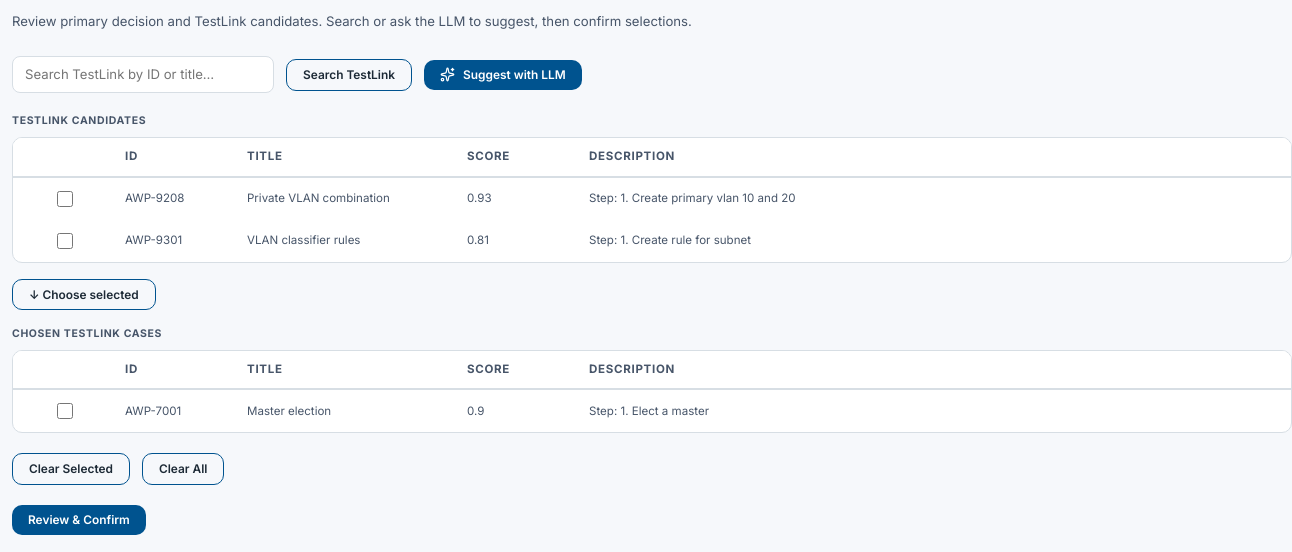
it: OgCandidatePicker › search › leaves out results that are already chosen
Type "Master" into the field with placeholder "Search TestLink by ID or title…". click: coordinates (143, 75)
box: x1=12 y1=56 x2=274 y2=93
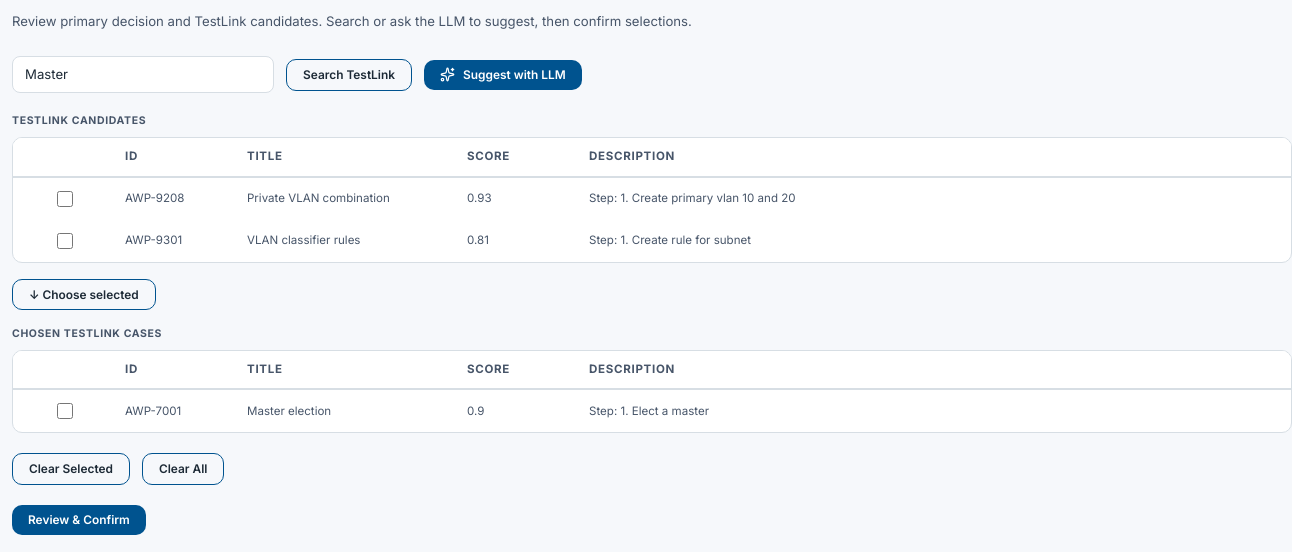
Click the button "Search TestLink". click: coordinates (349, 75)
box: x1=286 y1=59 x2=412 y2=91
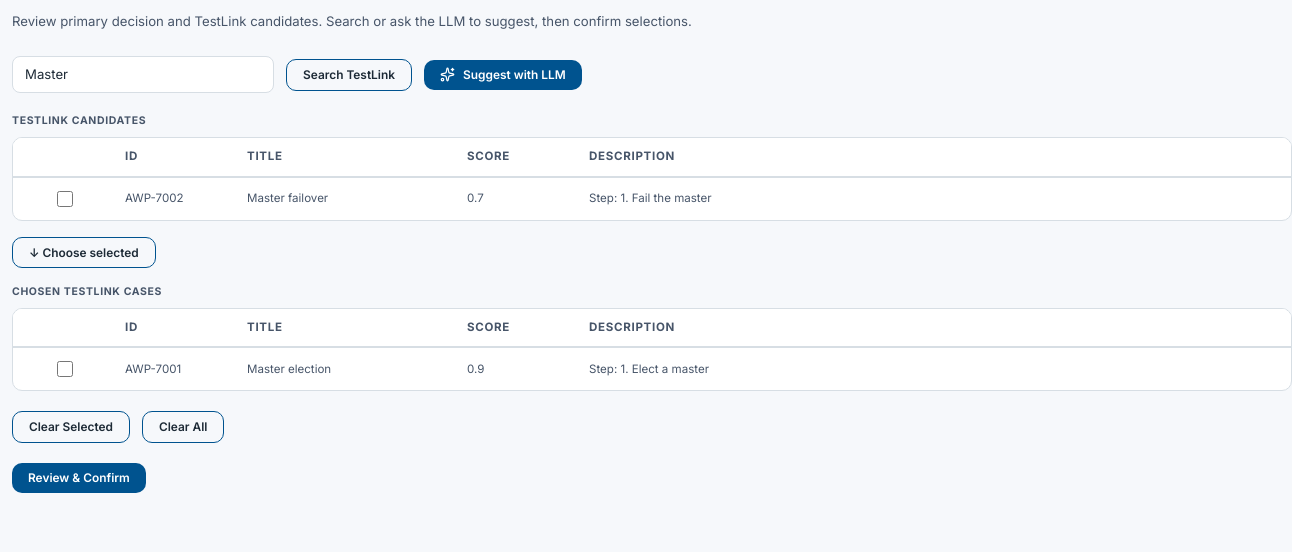
Expected: the text "AWP-7001" is shown, x1=125 y1=362 x2=181 y2=376
Result: the text "AWP-7002" is shown at x1=125 y1=191 x2=184 y2=205
